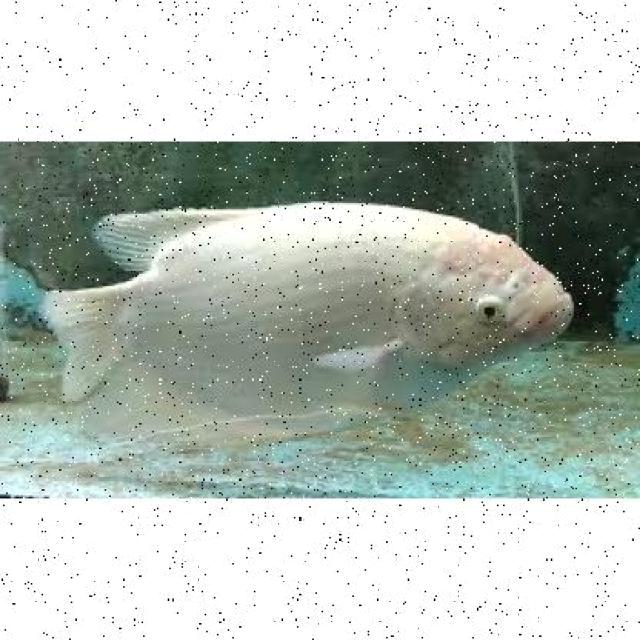gurame: (47, 198, 575, 434)
